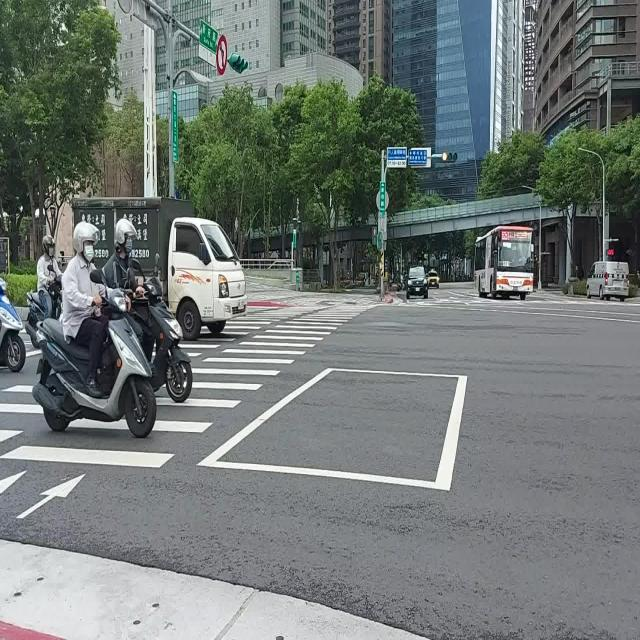bus: (475, 227, 534, 300)
car: (586, 260, 629, 300), (406, 267, 428, 300), (426, 269, 440, 288)
crosswalk: (1, 308, 358, 469), (180, 307, 306, 358), (0, 372, 44, 440)
motocycle: (32, 289, 155, 438), (145, 273, 192, 402), (0, 278, 25, 371), (25, 291, 45, 349), (51, 282, 61, 319)
trunk: (71, 198, 248, 338)
